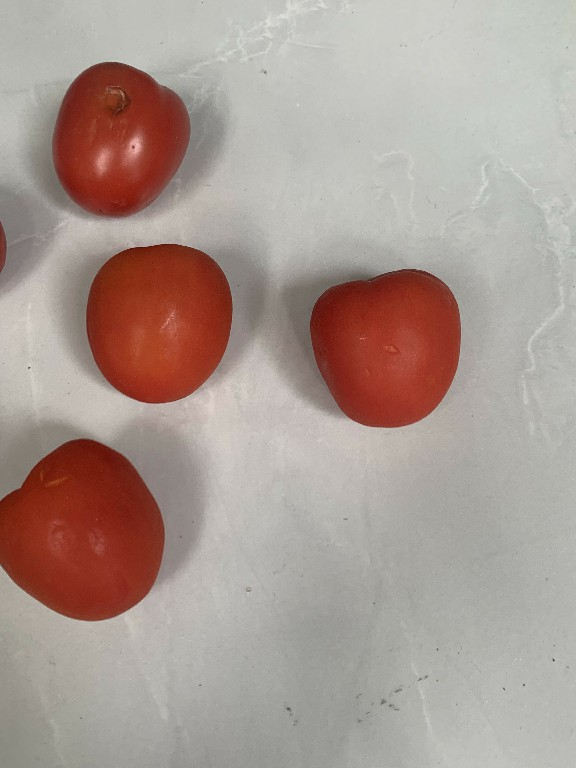NG: (49, 51, 192, 221)
OK: (0, 427, 175, 625), (61, 235, 243, 410), (308, 260, 477, 438)
